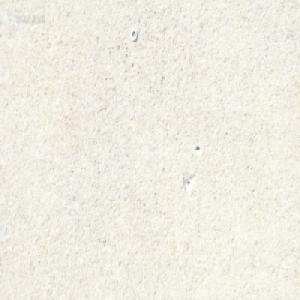Washer: (130, 27, 138, 41)
